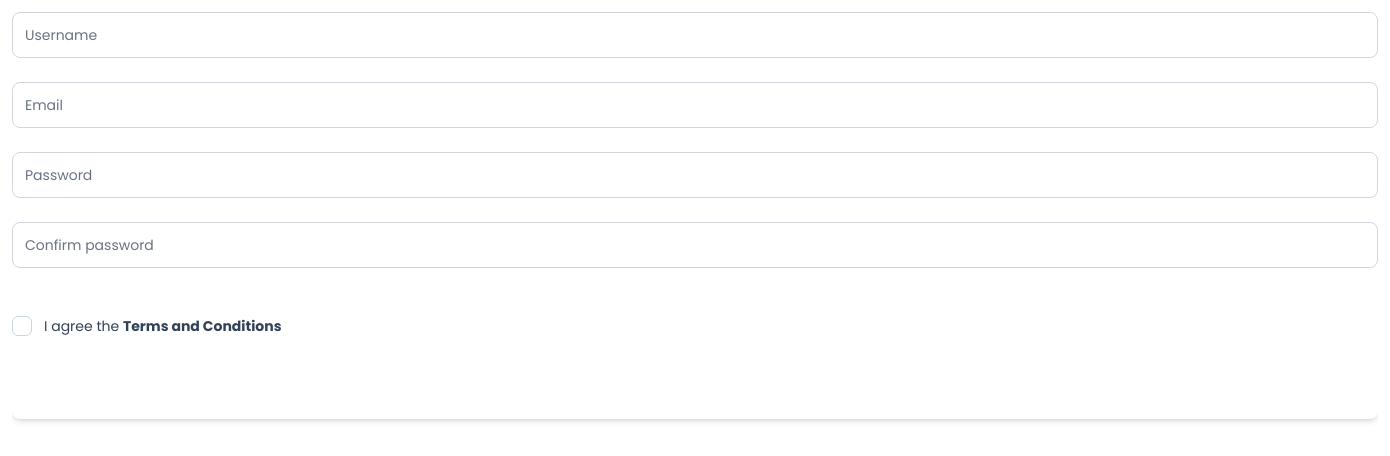
Test: testing Sign up form › shows validation error when user username exists
The image size is (1390, 456).
Step 1. Type "Radu" into the field labelled "Username" → (695, 35), box 12,12 -> 1378,58
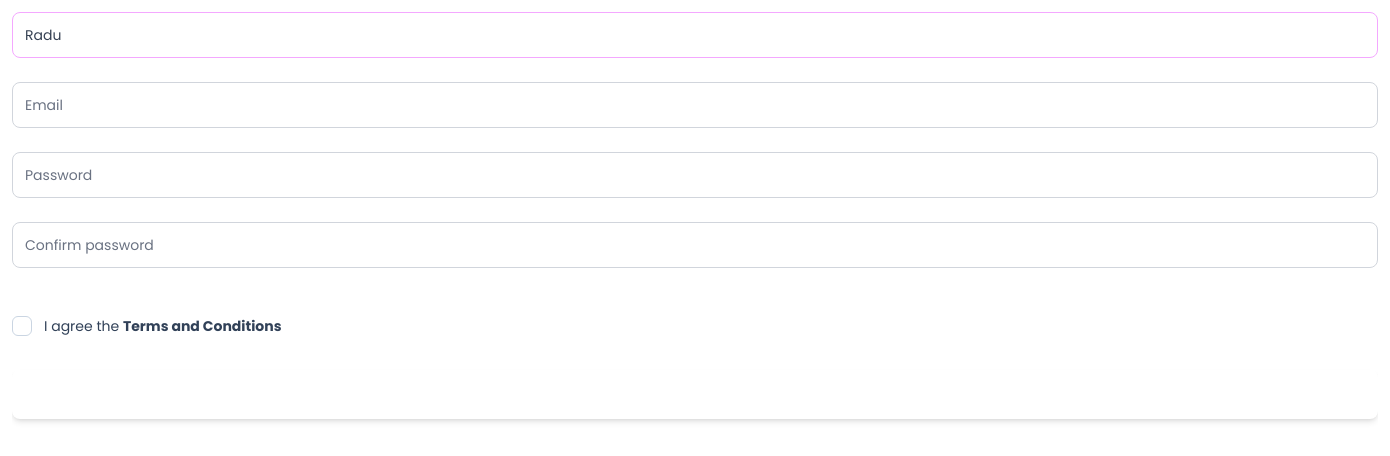
Step 2. Type "radu@example.com" into the field labelled "Email" → (695, 105), box 12,82 -> 1378,128
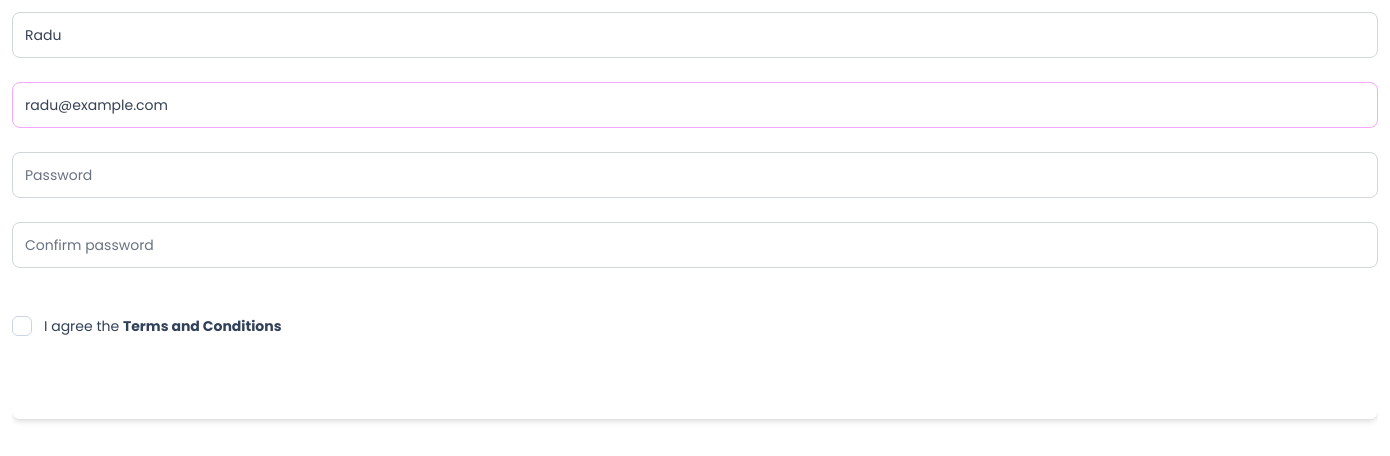
Step 3. Type "Password1" into the password field labelled "Password" → (695, 175), box 12,152 -> 1378,198
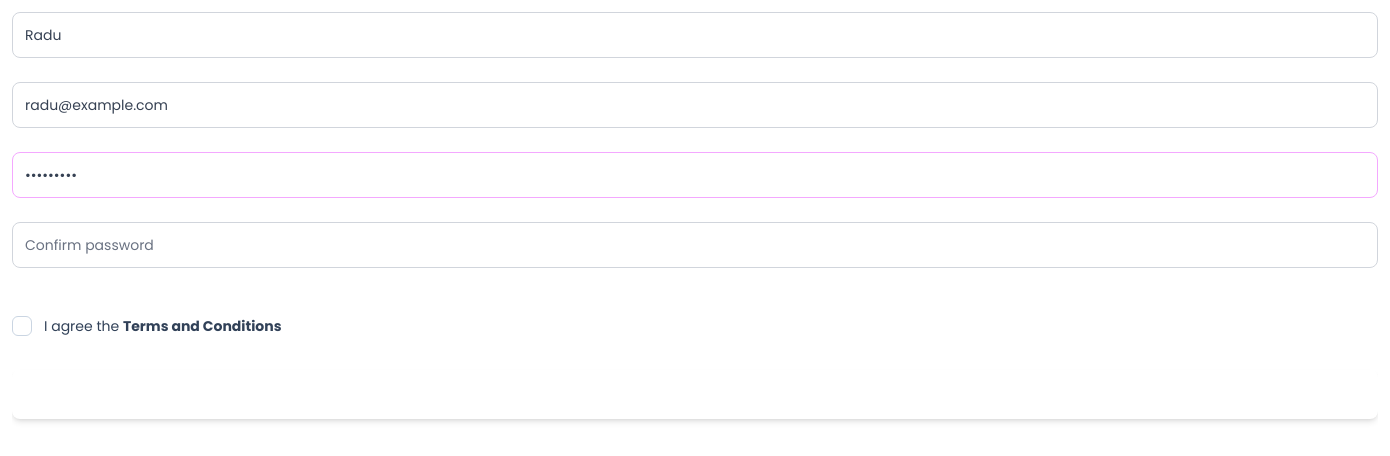
Step 4. Type "Password1" into the password field labelled "Confirm password" → (695, 245), box 12,222 -> 1378,268
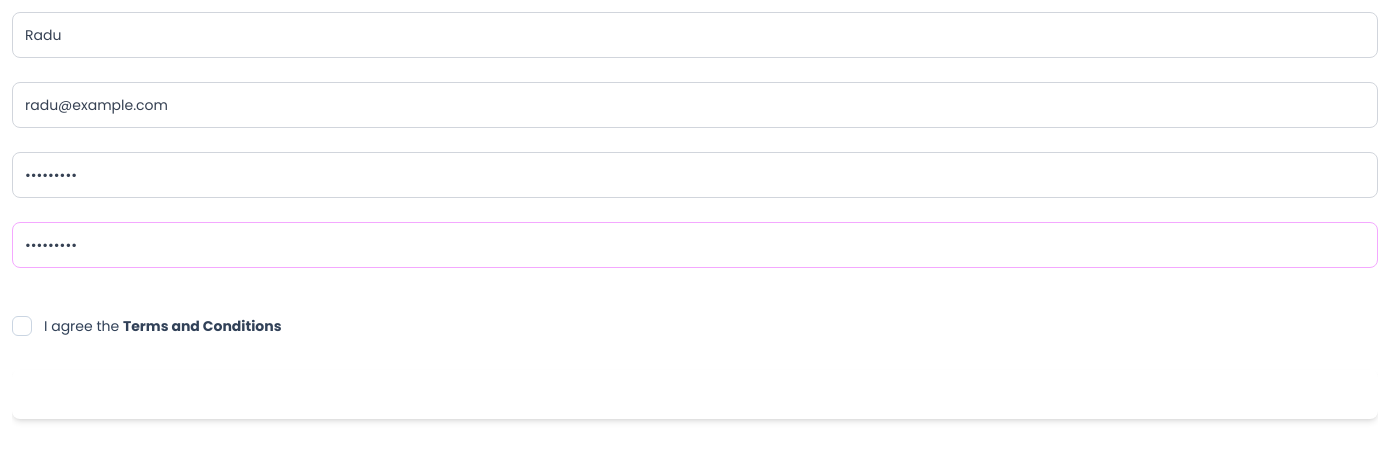
Step 5. Click the checkbox → click(22, 326), box 12,316 -> 32,336
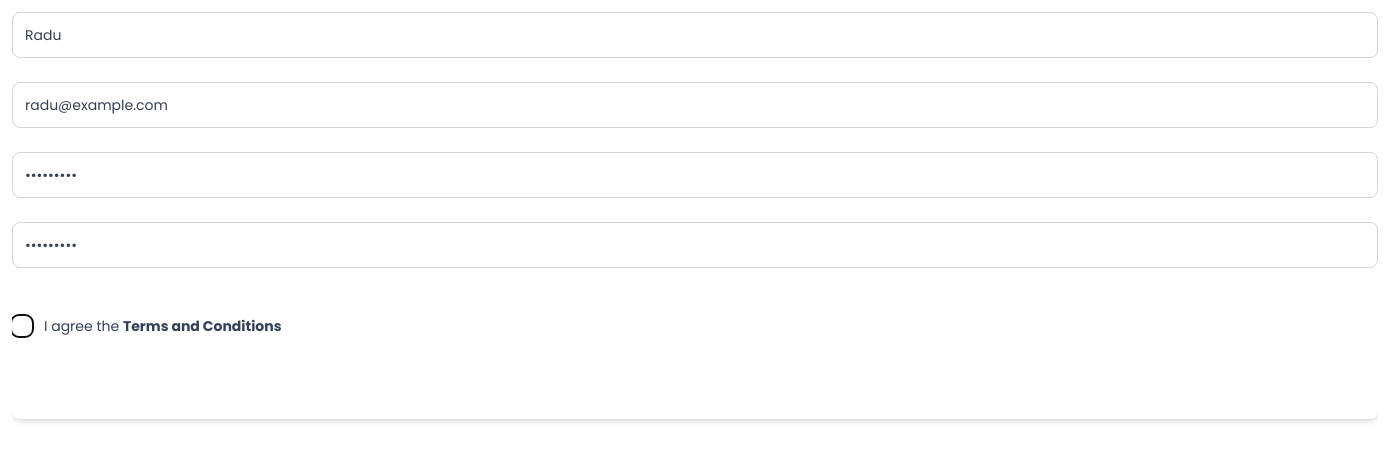
Step 6. Click the button "Sign Up" → click(695, 394), box 12,370 -> 1378,419
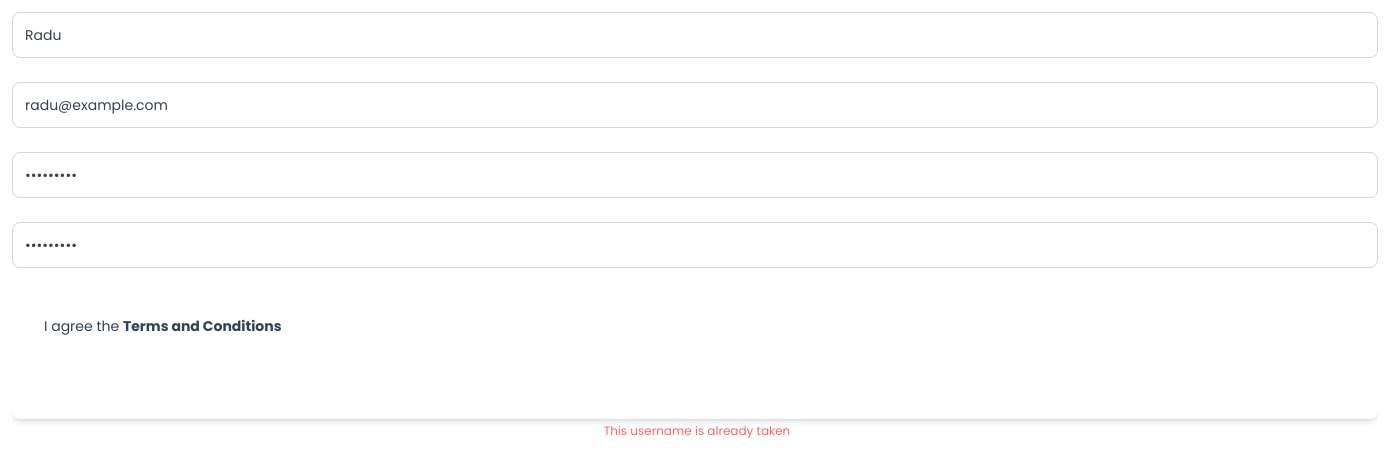
Now the text "This username is already taken" is shown, box 604,422 -> 790,439
